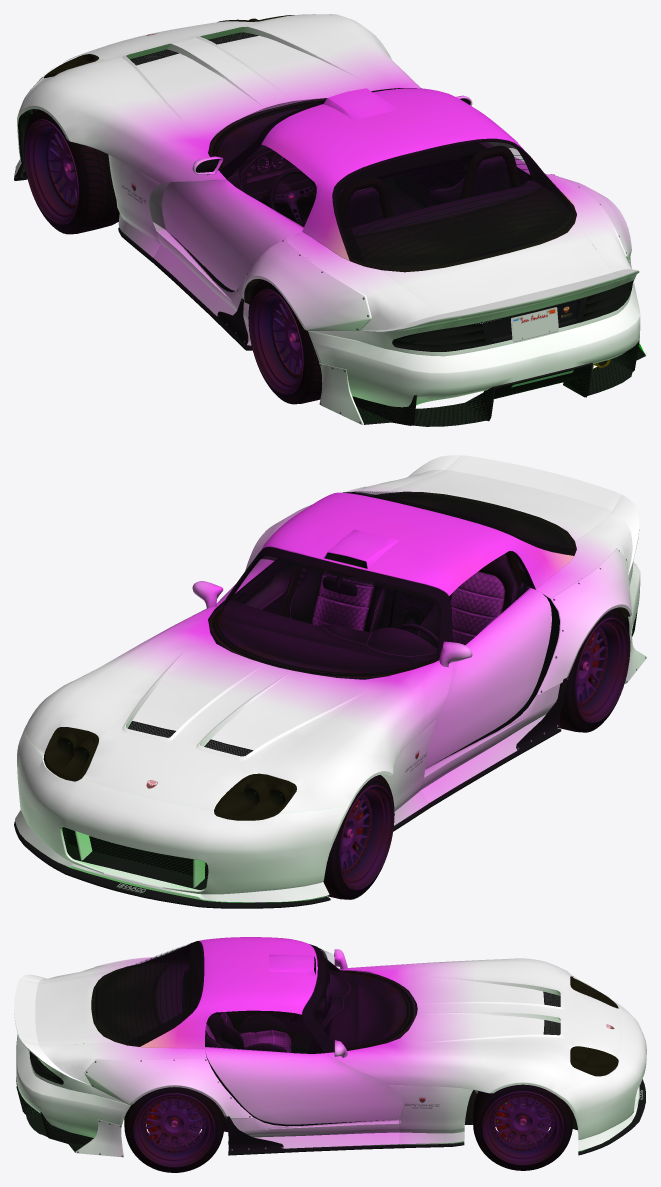
The model's file is banshee2.glb.
3 renders of one model, top to bottom at view 1: azimuth 30°, elevation 25°; view 2: azimuth 150°, elevation 25°; view 3: azimuth 270°, elevation 25°, orthographic. The views are drawn at different scales.
Visible parts, largest first — view 1: bonnet, extra_2, misc_c, windscreen_r, bumper_r, misc_l, door_dside_f, wheel_lf, misc_g, wheel_lr, misc_f, window_lf (+7 smaller); view 2: bonnet, bumper_f, extra_2, misc_c, misc_l, door_dside_f, misc_m, bodyshell, misc_f, misc_g, wheel_lr, wheel_lf (+7 smaller); view 3: bonnet, extra_2, door_pside_f, misc_c, misc_l, windscreen_r, wheel_rf, wheel_rr, bumper_f, bumper_r, misc_g, misc_f (+8 smaller).
Boxes of the visible parts, x1,y1,x2,y2 form: bonnet: (25, 14, 472, 183); extra_2: (261, 88, 576, 272); misc_c: (286, 174, 639, 356); windscreen_r: (335, 141, 573, 268); bumper_r: (308, 257, 646, 426); misc_l: (210, 99, 542, 235); door_dside_f: (162, 179, 303, 290); wheel_lf: (23, 109, 119, 234); misc_g: (236, 174, 631, 331); wheel_lr: (248, 279, 322, 404); misc_f: (153, 229, 252, 350); window_lf: (228, 145, 315, 227); bonnet: (25, 581, 472, 813); bumper_f: (14, 727, 349, 908); extra_2: (261, 491, 576, 595); misc_c: (346, 455, 639, 598); misc_l: (210, 558, 529, 677); door_dside_f: (425, 588, 551, 768); misc_m: (288, 553, 530, 651); bodyshell: (43, 547, 452, 820); misc_f: (421, 676, 568, 808); misc_g: (245, 486, 631, 695); wheel_lr: (558, 608, 630, 732); wheel_lf: (323, 775, 394, 899); bonnet: (325, 949, 621, 1094); extra_2: (91, 937, 317, 1049); door_pside_f: (205, 1047, 402, 1124); misc_c: (14, 957, 206, 1103); misc_l: (156, 963, 415, 1053); windscreen_r: (95, 942, 201, 1044); wheel_rf: (472, 1084, 573, 1170); wheel_rr: (124, 1087, 224, 1172); bumper_f: (555, 982, 646, 1155); bumper_r: (16, 1034, 130, 1157); misc_g: (84, 957, 253, 1119); misc_f: (224, 1116, 399, 1155).
Size of the model in its own units: 2.23 by 1.29 by 4.78.
Materials: 20 (20 with a texture image).
